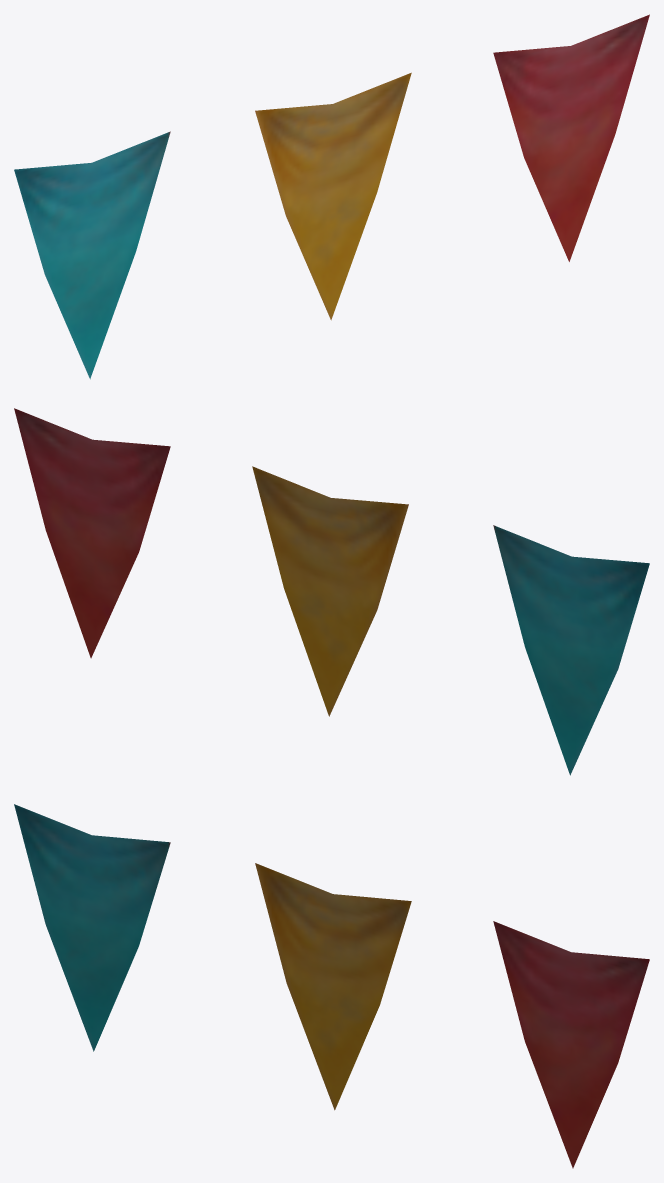
3 renders of one model, top to bottom at view 1: azimuth 30°, elevation 25°; view 2: azimuth 150°, elevation 25°; view 3: azimuth 330°, elevation 25°, orthographic.
Parts seen in each view (by area): view 1: qi_zi_004_b, qi_zi_004_c, qi_zi_004_a; view 2: qi_zi_004_c, qi_zi_004_b, qi_zi_004_a; view 3: qi_zi_004_c, qi_zi_004_b, qi_zi_004_a.
Part boxes in pixels (box(x1,y1,x2,y2)): qi_zi_004_b: box(255, 72, 411, 320); qi_zi_004_c: box(493, 14, 649, 261); qi_zi_004_a: box(14, 131, 170, 379); qi_zi_004_c: box(14, 408, 170, 658); qi_zi_004_b: box(252, 466, 408, 716); qi_zi_004_a: box(493, 525, 649, 775); qi_zi_004_c: box(493, 921, 649, 1168); qi_zi_004_b: box(255, 863, 411, 1110); qi_zi_004_a: box(14, 804, 170, 1051).
Bounding box in the file's own units: 136 × 47.21 × 0.6745.
